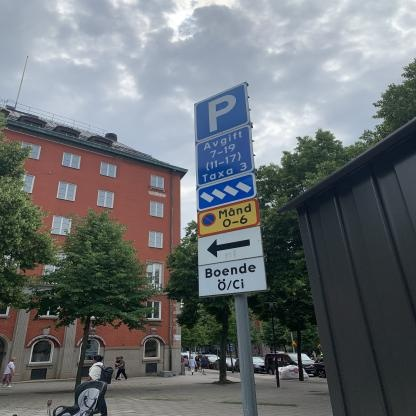P-skylt: (191, 80, 252, 142)
